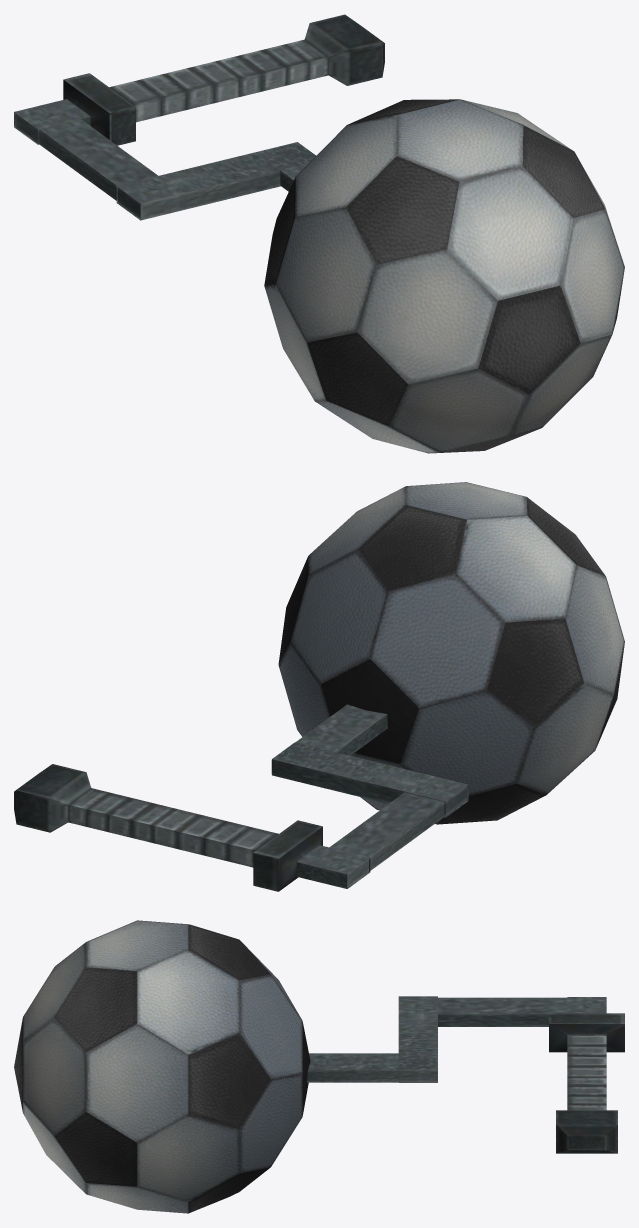
3 renders of one model, top to bottom at view 1: azimuth 30°, elevation 25°; view 2: azimuth 150°, elevation 25°; view 3: azimuth 270°, elevation 25°, orthographic. The views are drawn at different scales.
Visible parts, largest first — view 1: i005022; view 2: i005022; view 3: i005022.
Boxes of the visible parts, x1,y1,x2,y2 form: i005022: [14, 14, 624, 453]; i005022: [14, 482, 624, 891]; i005022: [14, 920, 624, 1213].
Size of the model in its own units: 34.95 by 30.53 by 64.71.
Materials: 1 (1 with a texture image).
